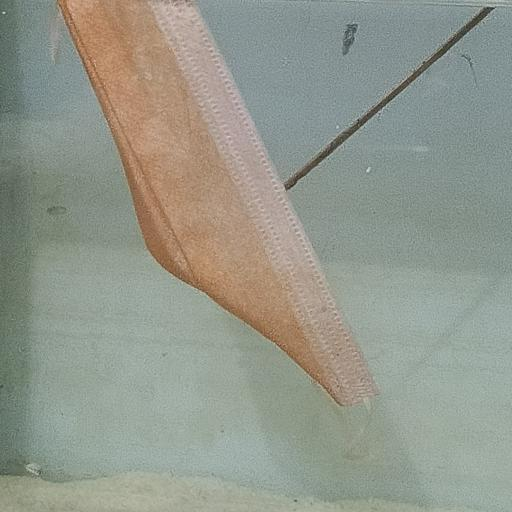mask: (57, 0, 380, 416)
